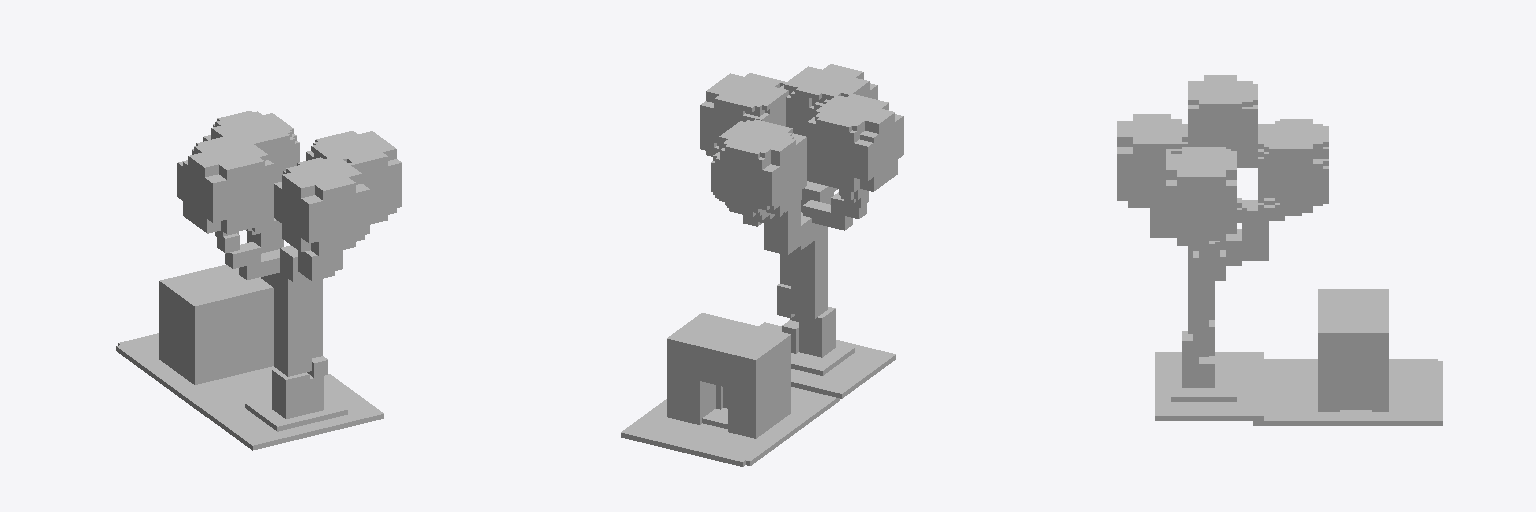
File: tree.obj
3 views of the same model, side by side, from view 1: azimuth 30°, elevation 25°; view 2: azimuth 150°, elevation 25°; view 3: azimuth 270°, elevation 25° (orthographic).
Parts seen in each view (by area): view 1: object 1; view 2: object 1; view 3: object 1.
Boxes of the visible parts, x1=… form: object 1: x1=116, y1=111, x2=401, y2=450; object 1: x1=621, y1=64, x2=903, y2=466; object 1: x1=1117, y1=75, x2=1442, y2=425.
Size of the model in its own units: 3.8 by 5.6 by 6.